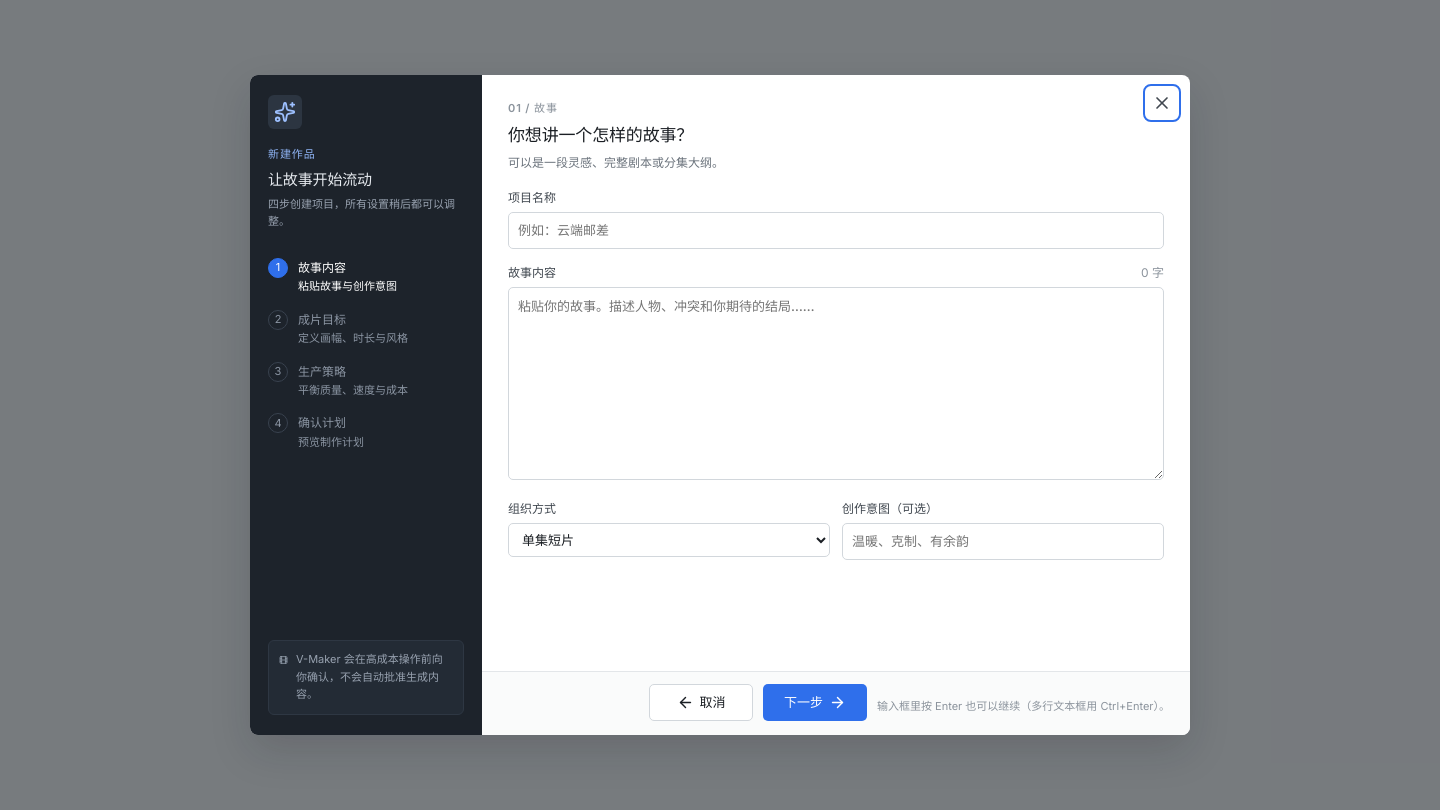
创建向导按钮状态 › 输入框里按 Enter 也能继续，多行文本里必须用 Ctrl+Enter
// 没填必填项时按 Enter 要给出校验提示，而不是静默无反应。
Click the field with placeholder "例如：云端邮差" at (836, 231), box [508, 212, 1164, 249]
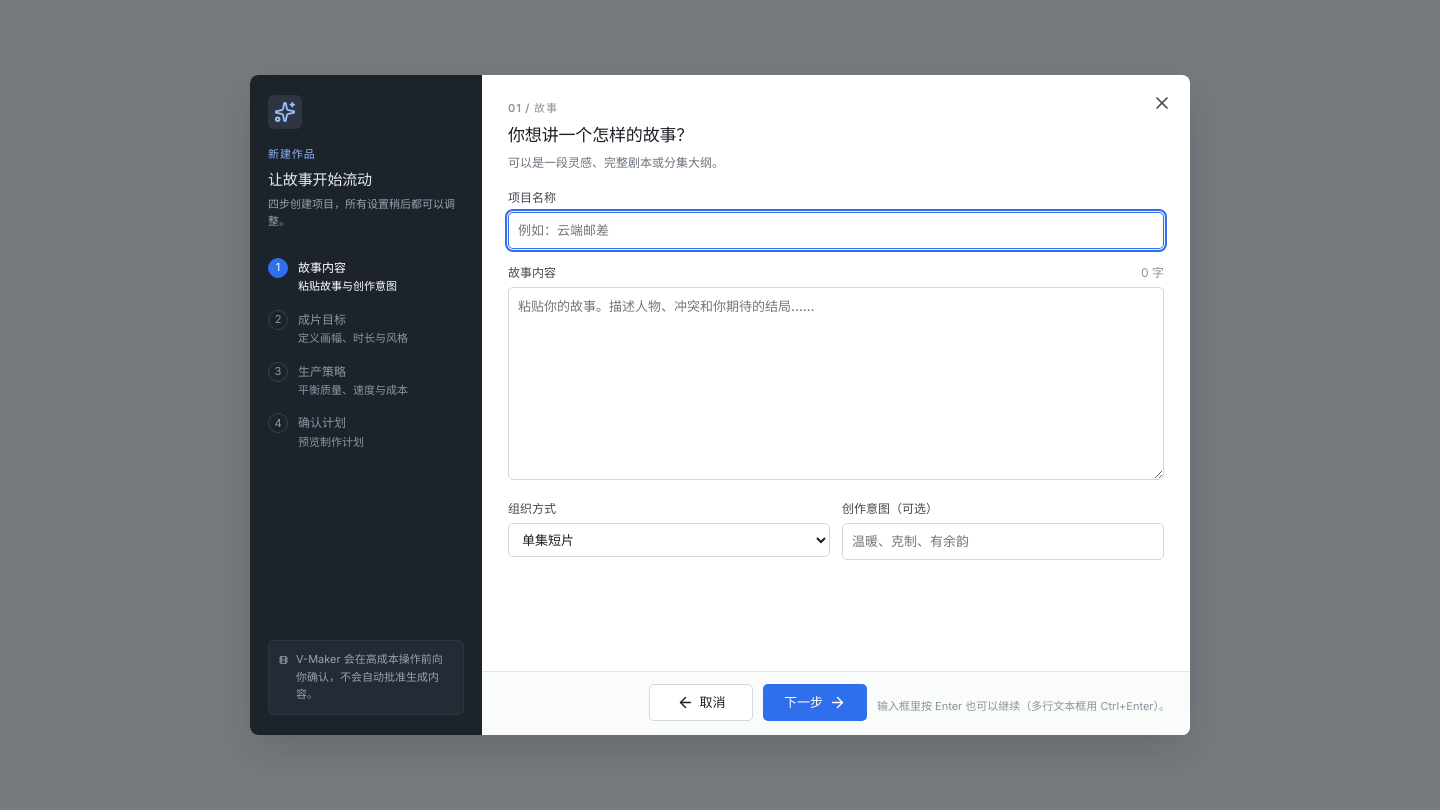
Press Enter
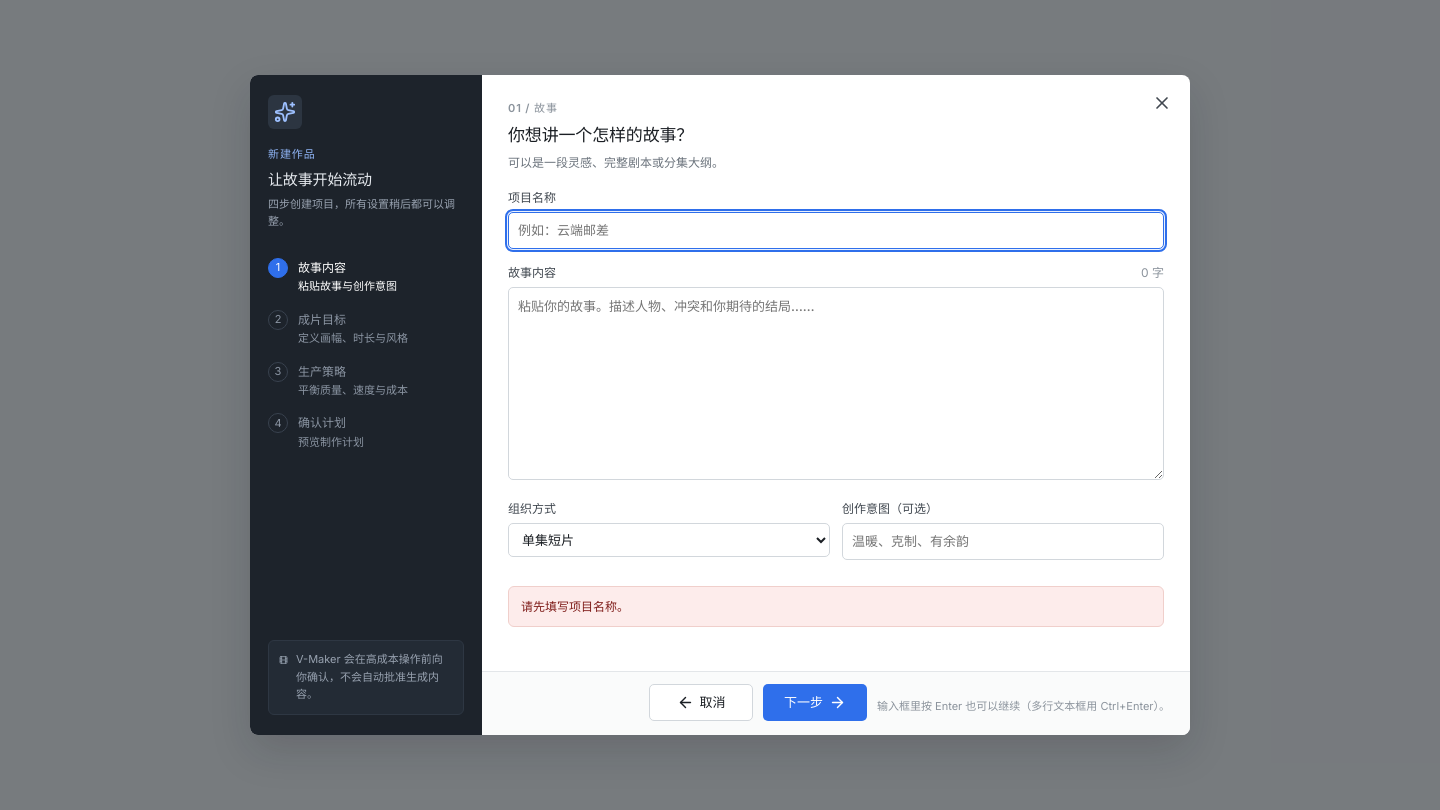
Now the text "请先填写项目名称。" is shown, box [508, 586, 1164, 628]
Type "键盘流程" into the field with placeholder "例如：云端邮差" at (836, 231), box [508, 212, 1164, 249]
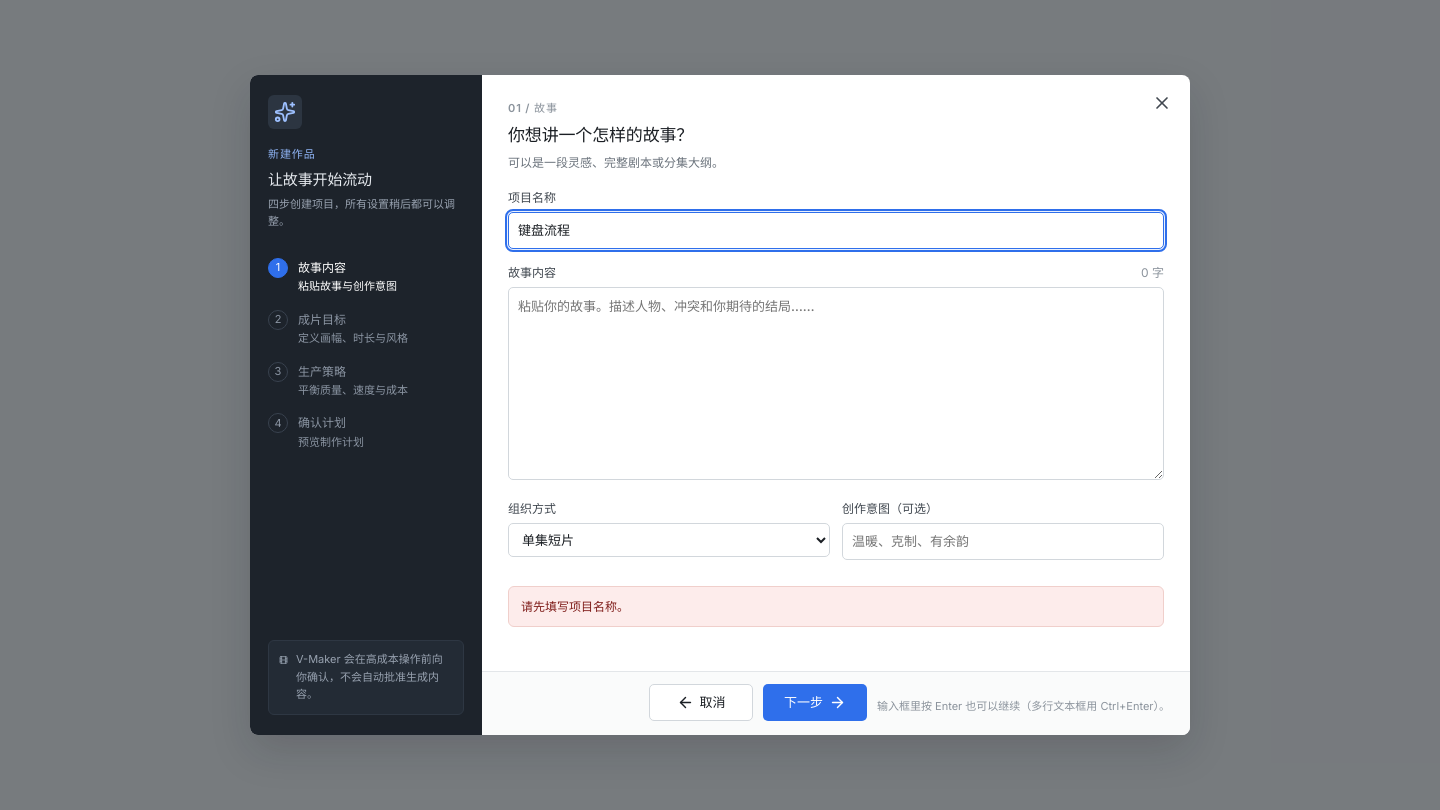
Type "一只猫在雨夜回家。" into the text box with placeholder "粘贴你的故事。描述人物、冲突和你期待的结局……" at (836, 384), box [508, 287, 1164, 480]
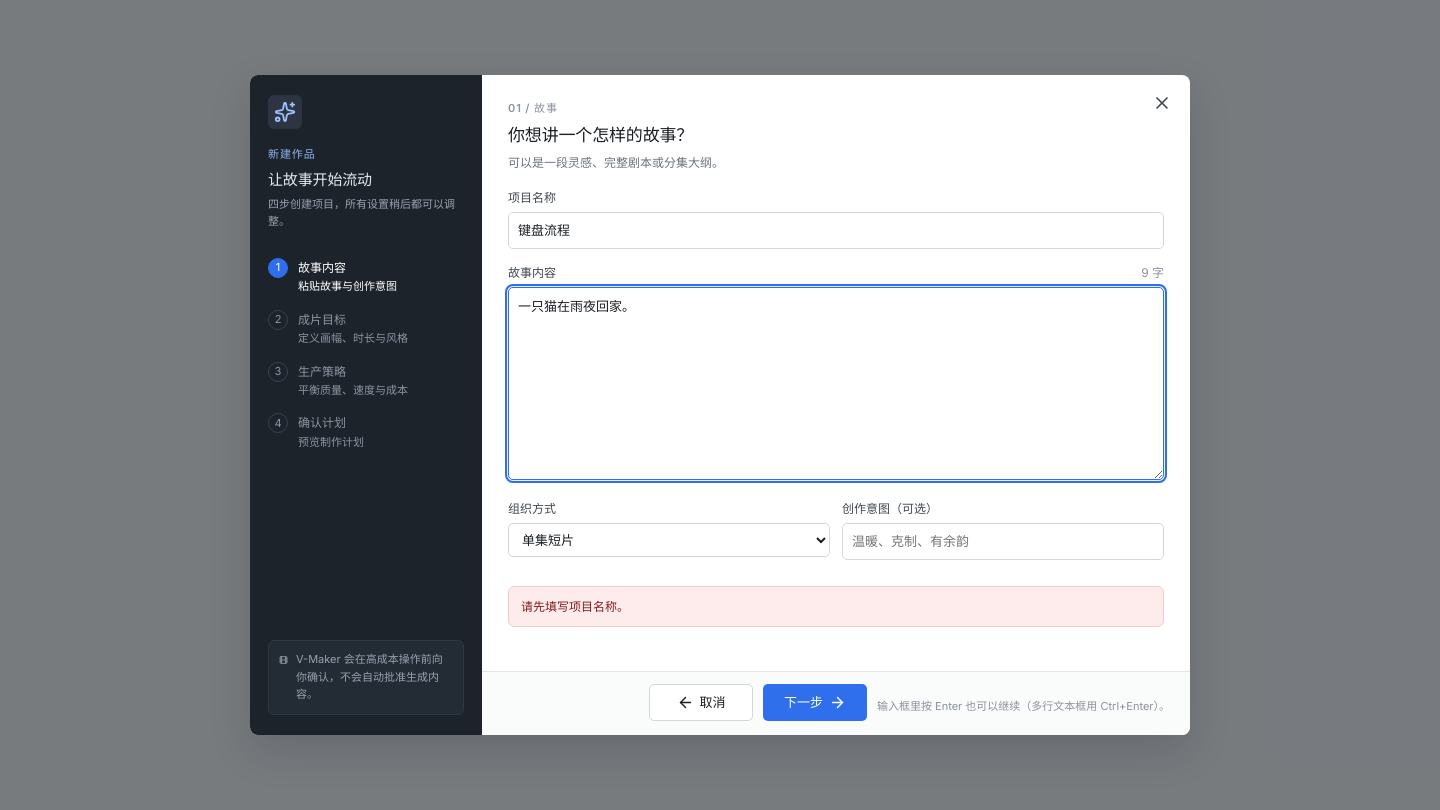
// 多行文本框里的裸 Enter 只换行，不前进。
Press Enter
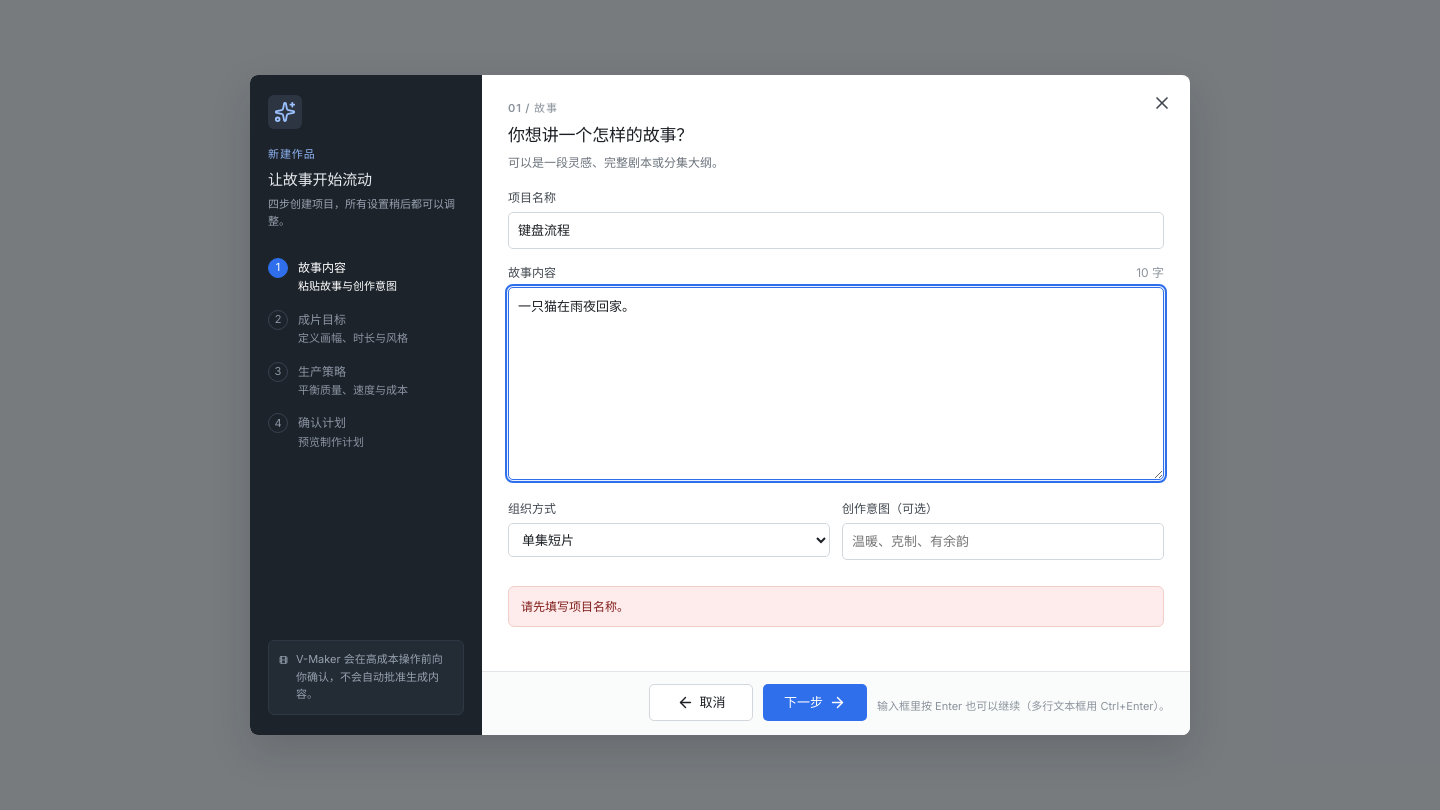
Expected: the heading "你想讲一个怎样的故事？" is shown, [508, 125, 693, 145]
// Ctrl+Enter 才前进。
Type keys "{Control>}{Enter}{/Control}"
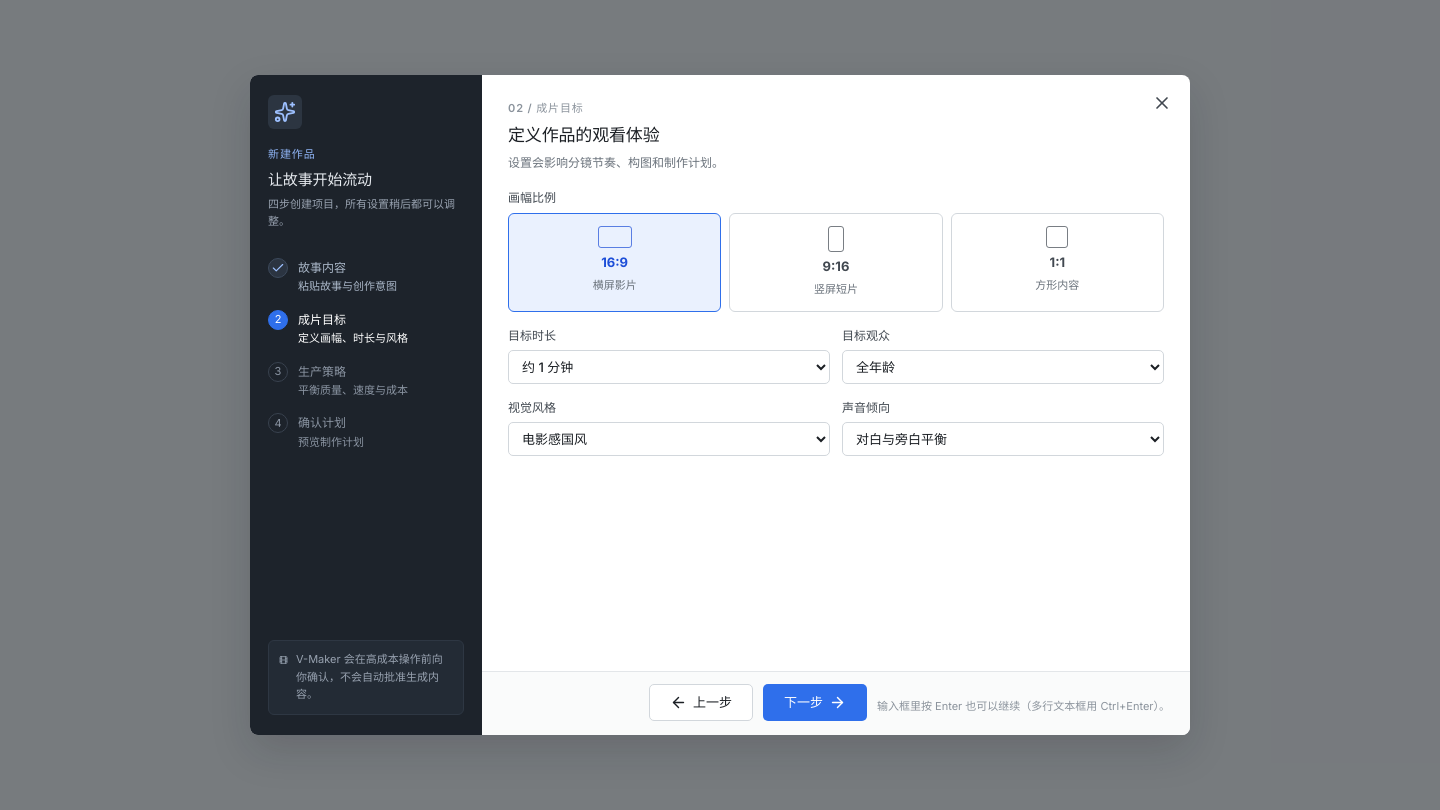
Now the heading "定义作品的观看体验" is shown, box [508, 125, 660, 145]
